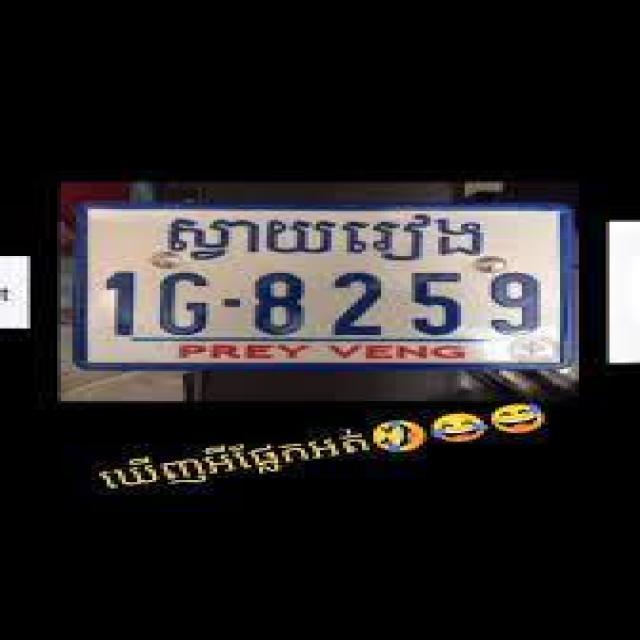Svay_Rieng: (160, 209, 488, 268)
